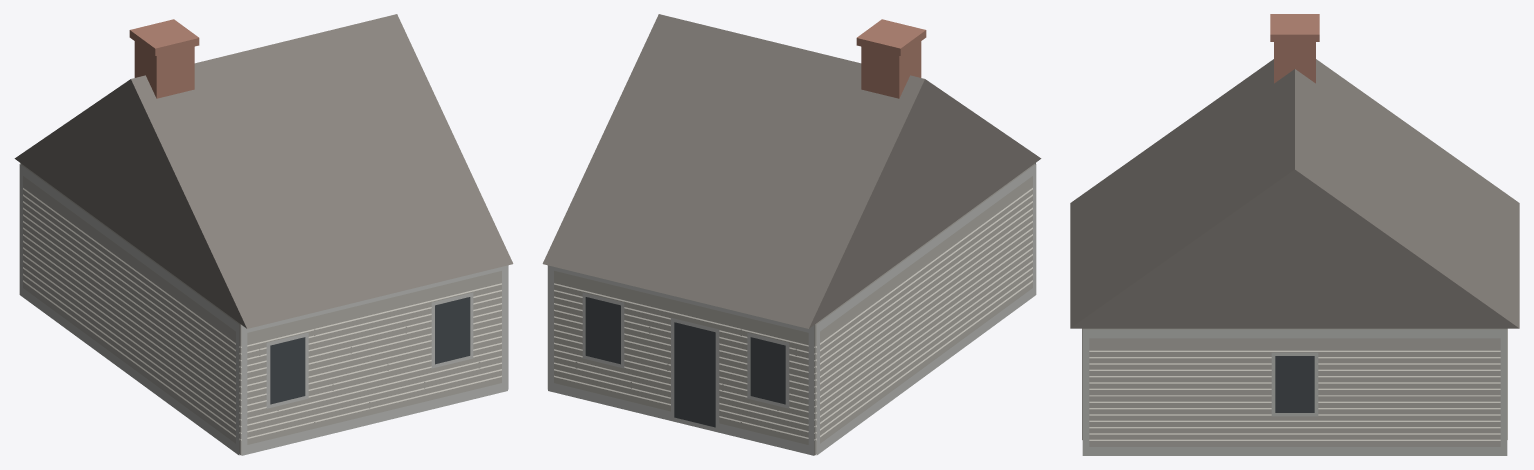
The model's file is recon_1835_south_d4_006__inferred_1835.glb.
The picture shows the model from 3 angles, left to right: view 1: azimuth 30°, elevation 25°; view 2: azimuth 150°, elevation 25°; view 3: azimuth 270°, elevation 25°; orthographic projection. The views are drawn at different scales.
Parts seen in each view (by area): view 1: recon_1835_south_d4_006__inferred_1835; view 2: recon_1835_south_d4_006__inferred_1835; view 3: recon_1835_south_d4_006__inferred_1835.
Part boxes in pixels (x1=…): recon_1835_south_d4_006__inferred_1835: x1=14, y1=14, x2=513, y2=455; recon_1835_south_d4_006__inferred_1835: x1=542, y1=14, x2=1041, y2=455; recon_1835_south_d4_006__inferred_1835: x1=1070, y1=14, x2=1519, y2=455.
Size of the model in its own units: 5.99 by 7.05 by 8.94.
